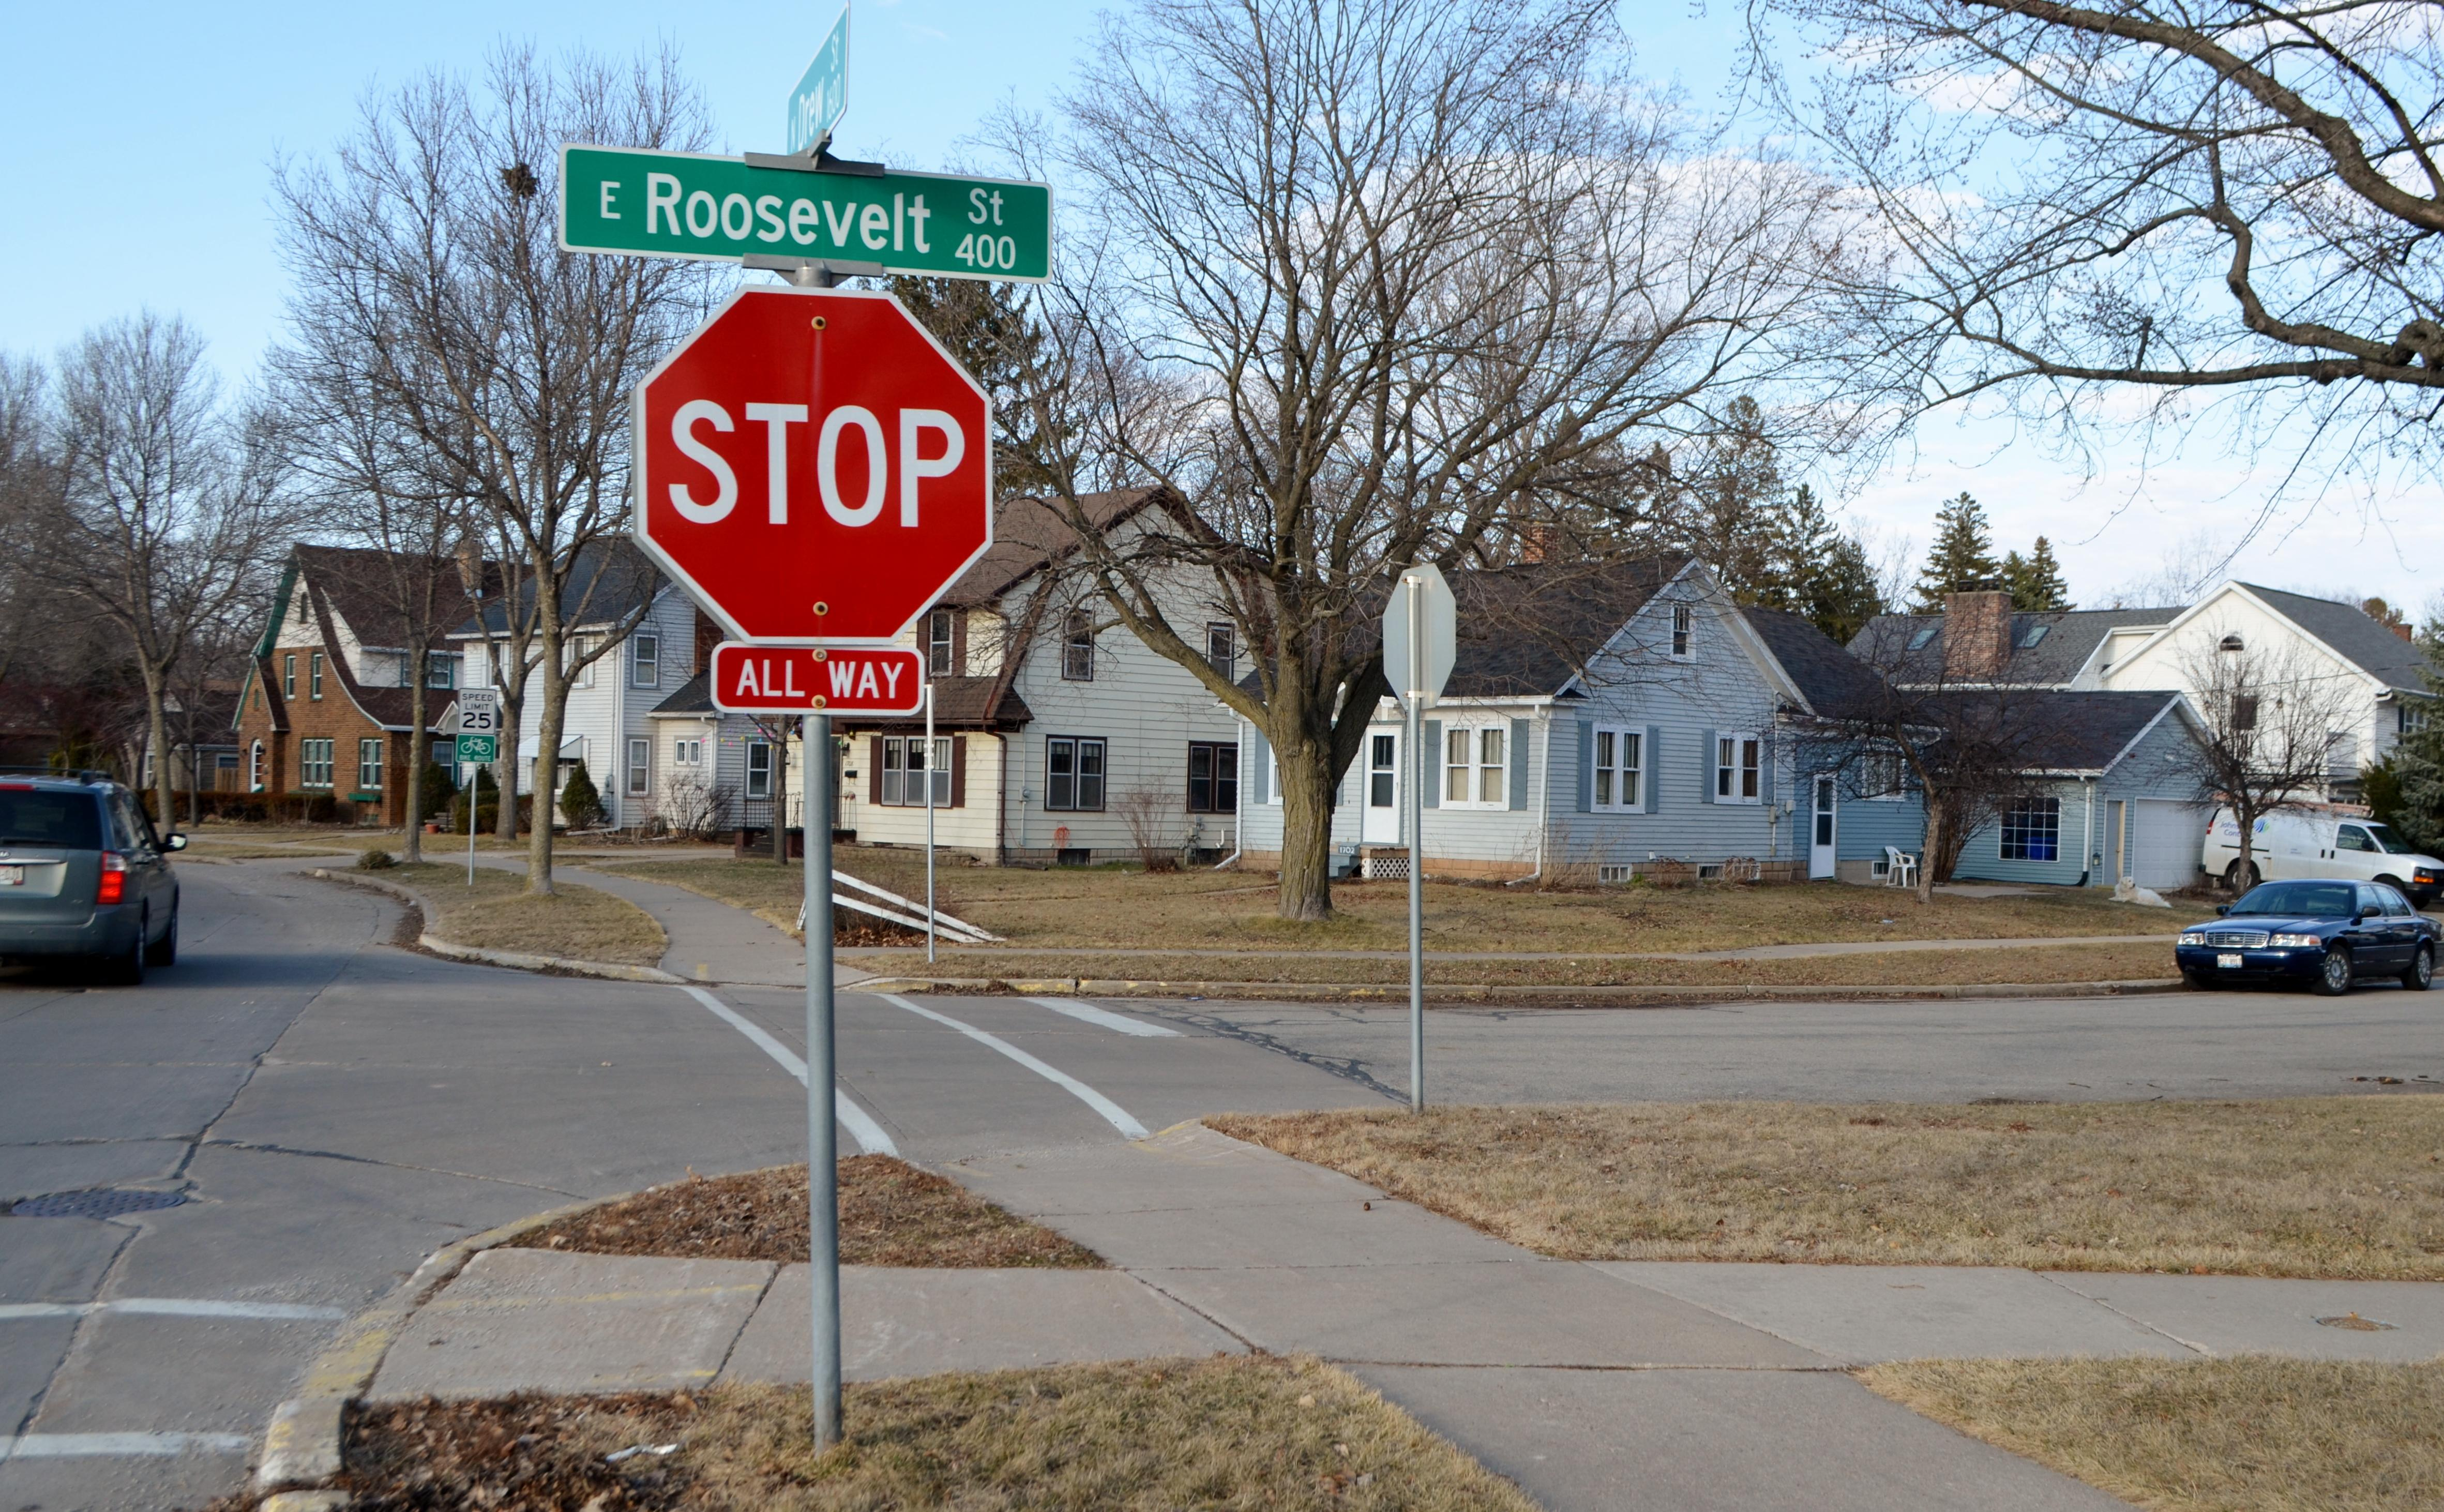Pole: (807, 716, 840, 1451), (1405, 714, 1426, 1114), (923, 768, 937, 964), (468, 763, 477, 887)
Sign: (634, 290, 1000, 643)
